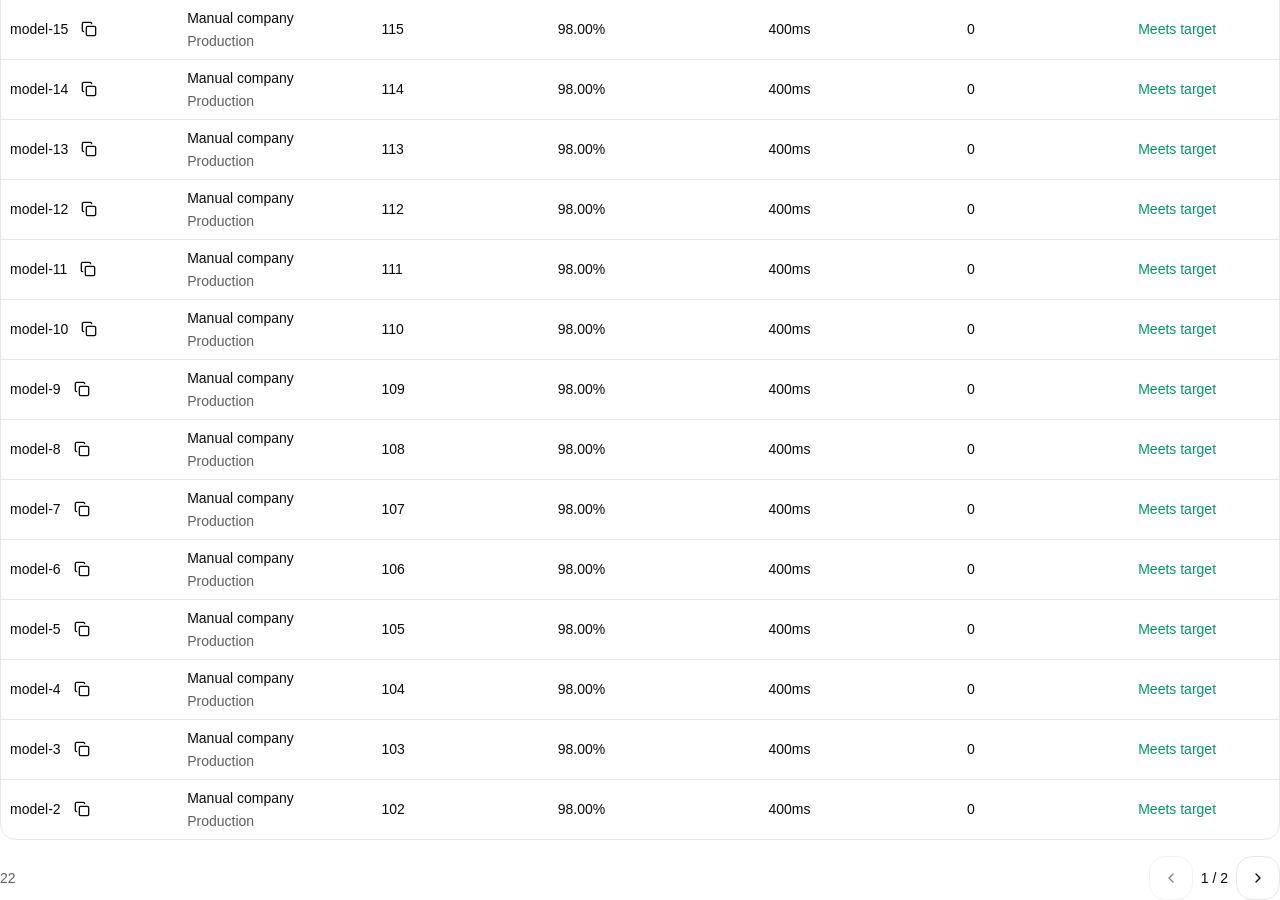
Scenario: performance model table › paginates large catalogs by requests and filters across hidden group metadata
(page scrolled)
Expected: the button "model-0" is not shown
Click the button named "Go to next page" at (1258, 878), box [1236, 856, 1279, 899]
(page scrolled)
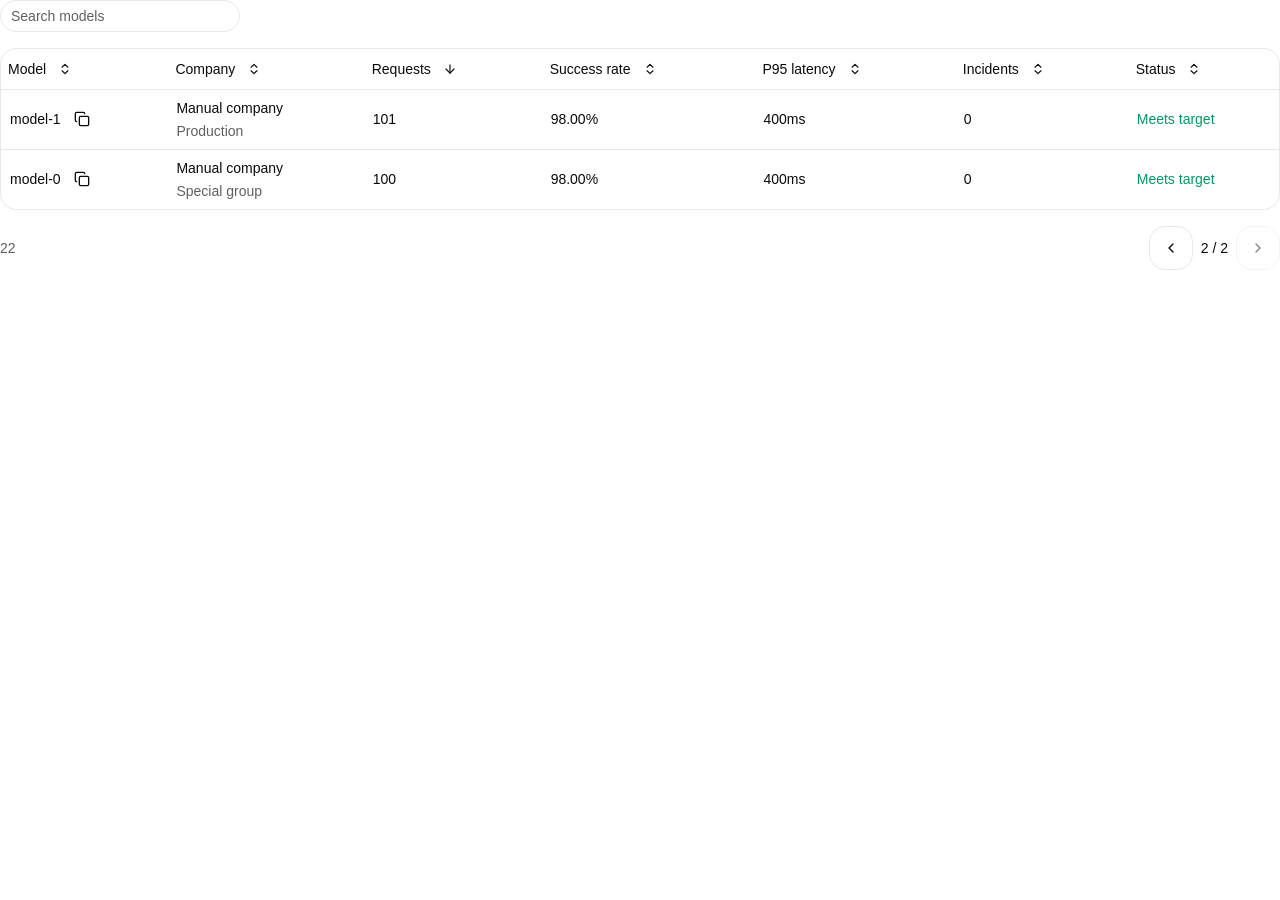
Expected: the button "model-0" is shown, [9, 169, 62, 190]
Type "Special group" into the field with placeholder "Search models" at (120, 16), box [0, 0, 240, 32]
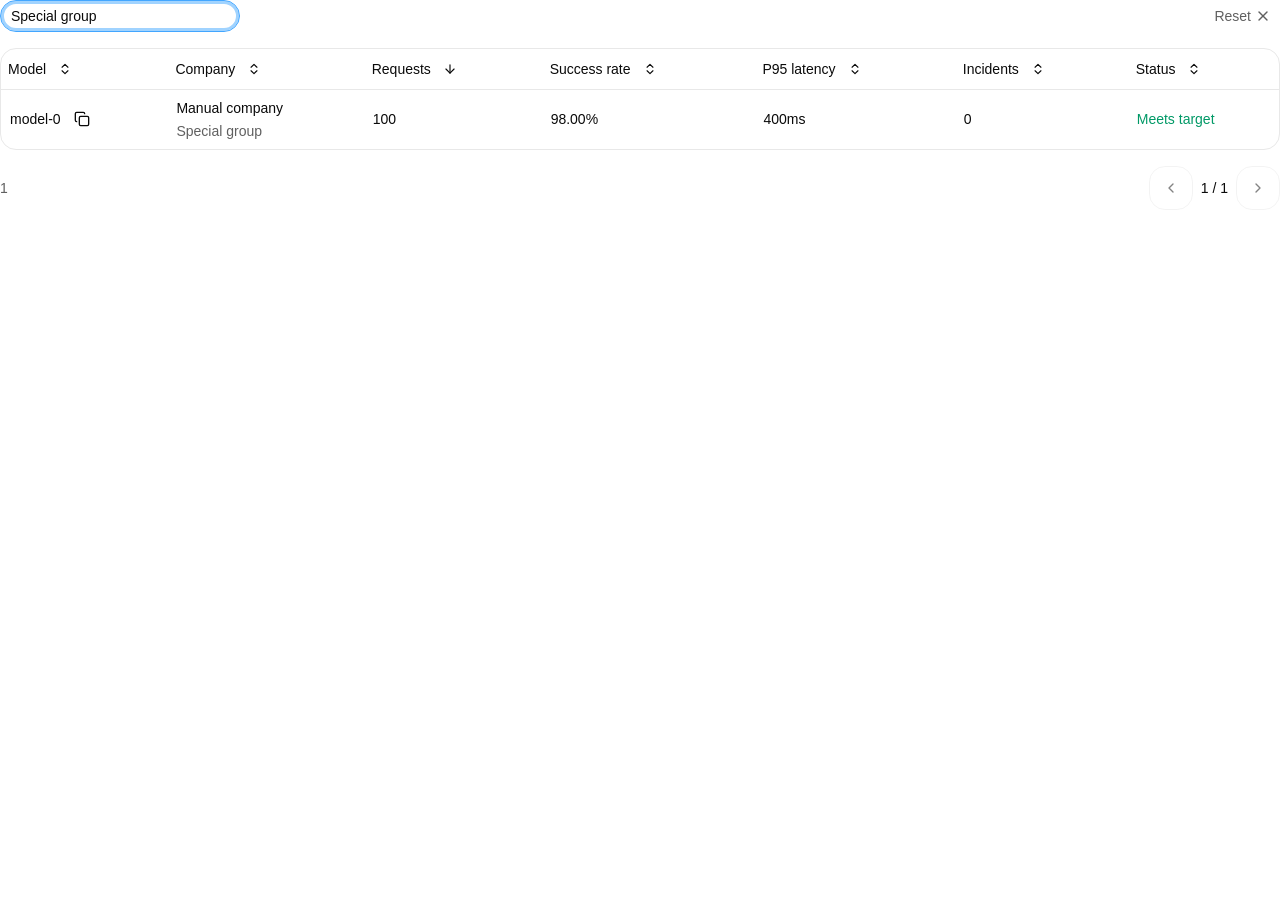
Expected: the button "model-0" is shown, [9, 109, 62, 130]
Expected: the number of rows is 2, [1, 49, 1279, 89]; [1, 89, 1279, 149]
Expected: the button named "Go to previous page" is disabled, [1149, 166, 1193, 210]
